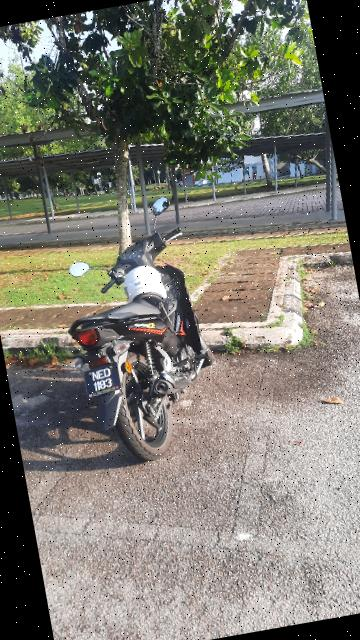License_Plate: (80, 362, 130, 402)
motorcycle: (46, 185, 239, 475)
